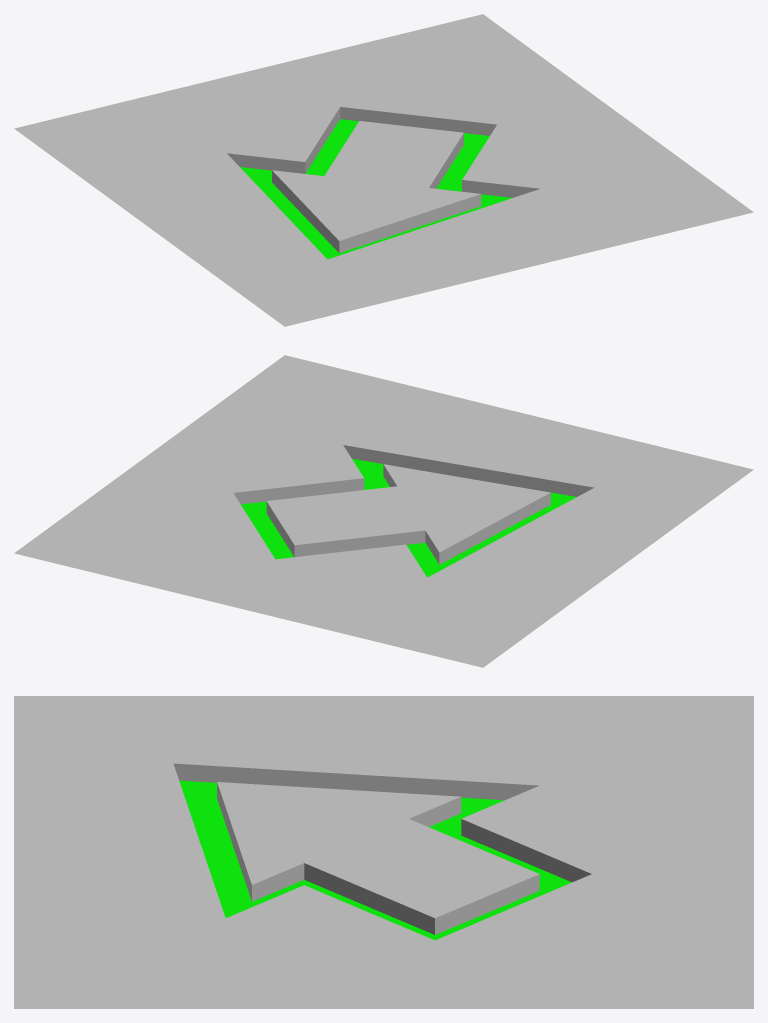
The model's file is x_KREPOST_wall_30_Teleport_podval1_rmstrd.fbx.
The picture shows the model from 3 angles, top to bottom: view 1: azimuth 30°, elevation 25°; view 2: azimuth 150°, elevation 25°; view 3: azimuth 270°, elevation 25°; orthographic projection. The views are drawn at different scales.
Visible parts, largest first — view 1: x_KREPOST_wall_30_Teleport_podval1_rmstrd1; view 2: x_KREPOST_wall_30_Teleport_podval1_rmstrd1; view 3: x_KREPOST_wall_30_Teleport_podval1_rmstrd1.
Boxes of the visible parts, x1=… form: x_KREPOST_wall_30_Teleport_podval1_rmstrd1: x1=14, y1=14, x2=753, y2=326; x_KREPOST_wall_30_Teleport_podval1_rmstrd1: x1=14, y1=355, x2=753, y2=667; x_KREPOST_wall_30_Teleport_podval1_rmstrd1: x1=14, y1=696, x2=753, y2=1008.
Bounding box in the file's own units: 2 × 0.05 × 2.
